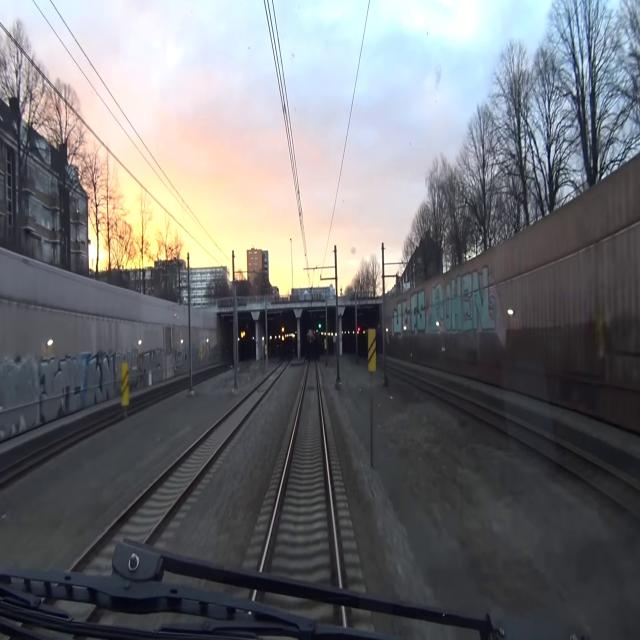rail-track: (78, 370, 278, 569), (423, 383, 640, 511), (265, 353, 338, 581), (0, 460, 30, 479)
